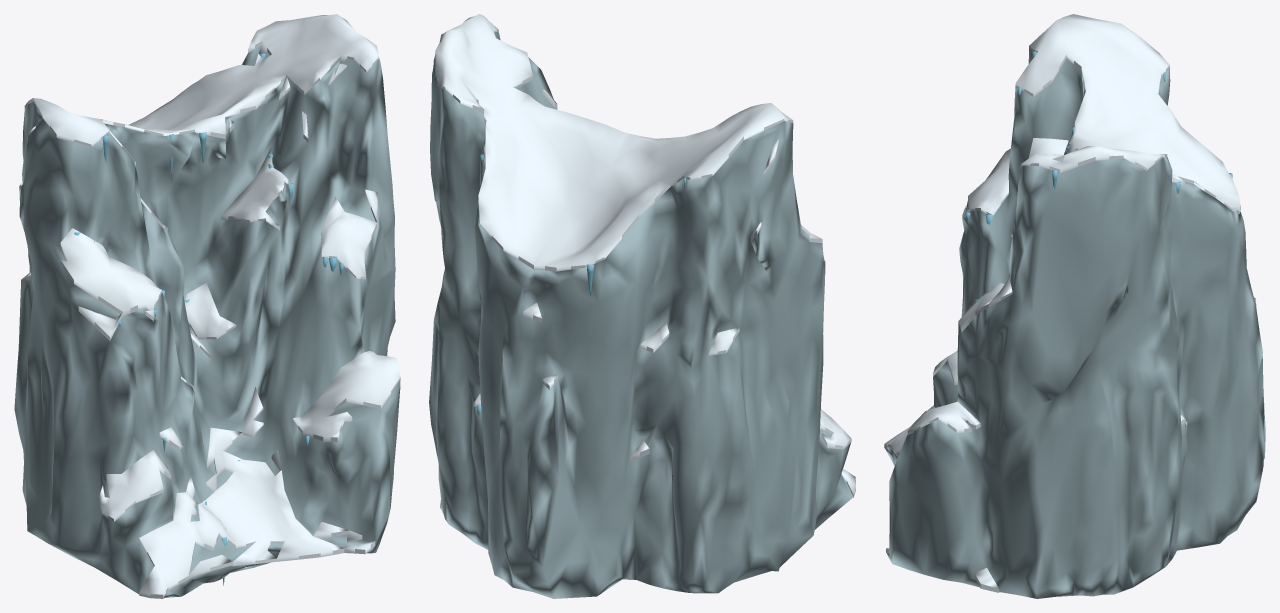
The model's file is SnowCanyon_Wall.fbx.
3 views of the same model, side by side, from view 1: azimuth 30°, elevation 25°; view 2: azimuth 150°, elevation 25°; view 3: azimuth 270°, elevation 25° (orthographic). The views are drawn at different scales.
Parts seen in each view (by area): view 1: SnowCanyon_Wall_LOD0; view 2: SnowCanyon_Wall_LOD0; view 3: SnowCanyon_Wall_LOD0.
Part boxes in pixels (x1,y1,x2,y2): SnowCanyon_Wall_LOD0: [14, 14, 400, 598]; SnowCanyon_Wall_LOD0: [429, 14, 855, 598]; SnowCanyon_Wall_LOD0: [884, 14, 1265, 598].
Size of what is drawn, in the model's own units: 6.01 by 7.99 by 5.95.
